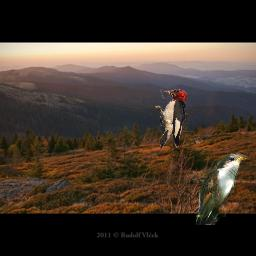Cuckoo: (196, 153, 248, 225)
Woodpecker: (155, 89, 187, 150)
